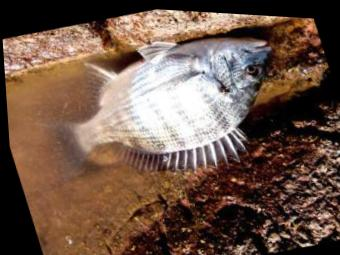fish: (39, 31, 270, 184)
